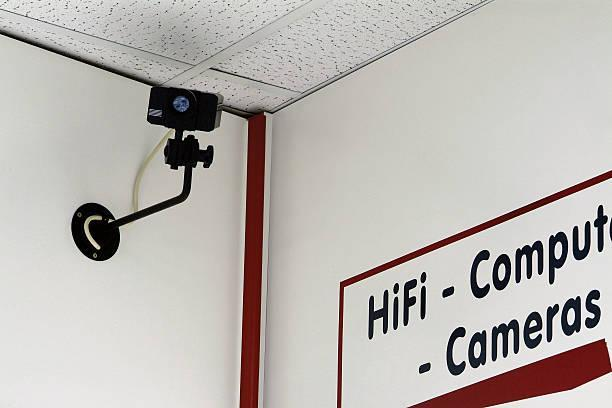camera: (140, 72, 228, 147)
